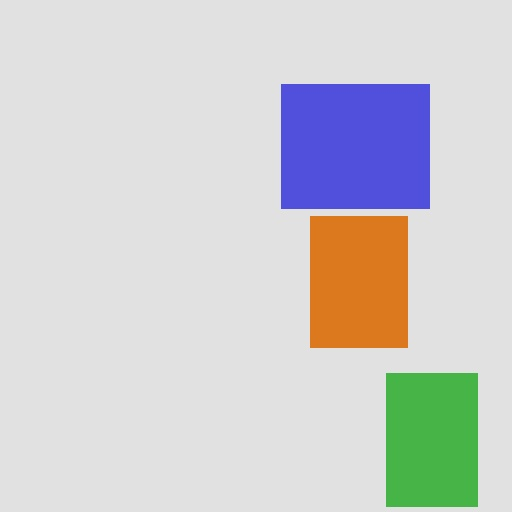square: (310, 216, 407, 347)
tall_box: (281, 84, 429, 208)
wide_box: (386, 373, 477, 506)
